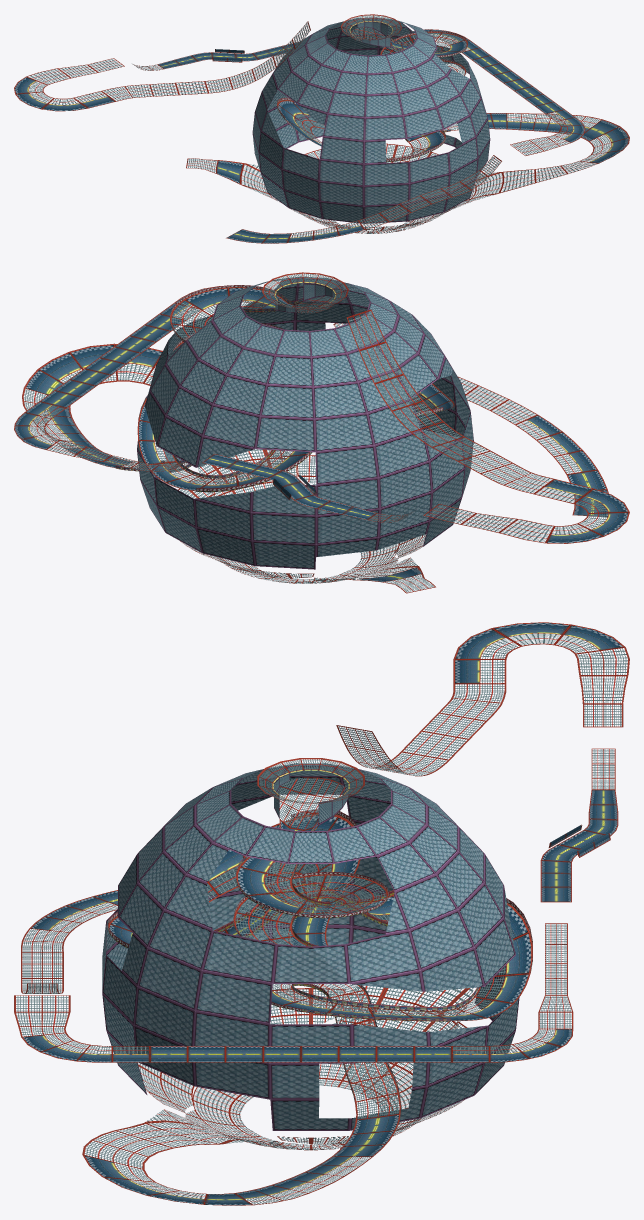
The model's file is Pass2.obj.
3 views of the same model, one above another, from view 1: azimuth 30°, elevation 25°; view 2: azimuth 150°, elevation 25°; view 3: azimuth 270°, elevation 25° (orthographic). The views are drawn at different scales.
Bounding box in the file's own units: 3356 × 1219 × 1983.
Materials: 4 (4 with a texture image).
